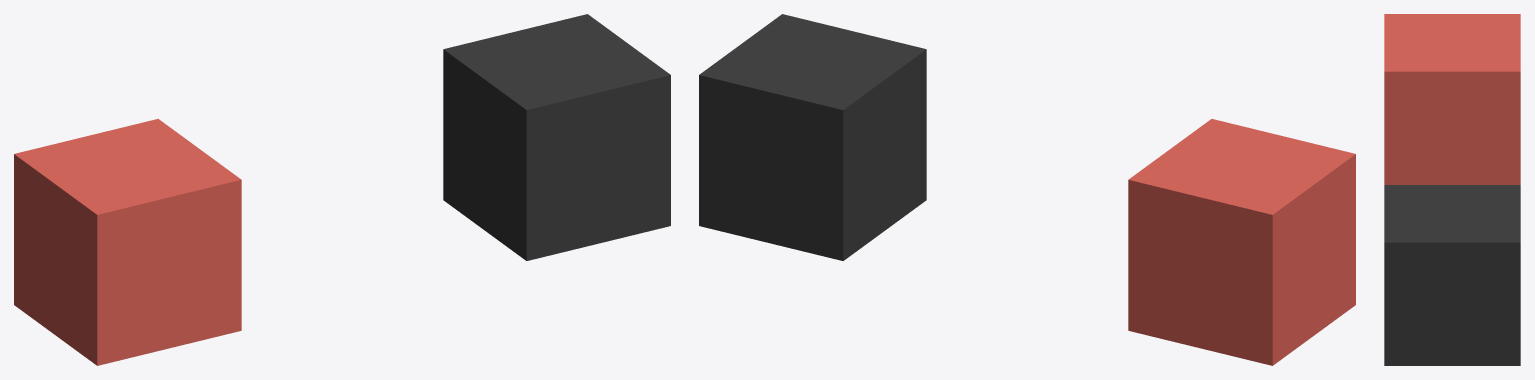
The picture shows the model from 3 angles, left to right: view 1: azimuth 30°, elevation 25°; view 2: azimuth 150°, elevation 25°; view 3: azimuth 270°, elevation 25°; orthographic projection. The views are drawn at different scales.
Parts seen in each view (by area): view 1: black, red; view 2: black, red; view 3: black, red.
Boxes of the visible parts, left/top/right/bottom form: black: left=443, top=14, right=670, bottom=260; red: left=14, top=119, right=241, bottom=365; black: left=699, top=14, right=926, bottom=260; red: left=1128, top=119, right=1355, bottom=365; black: left=1384, top=185, right=1520, bottom=365; red: left=1384, top=14, right=1520, bottom=184.
Size of the model in its own units: 22.71 by 5.71 by 5.71.
